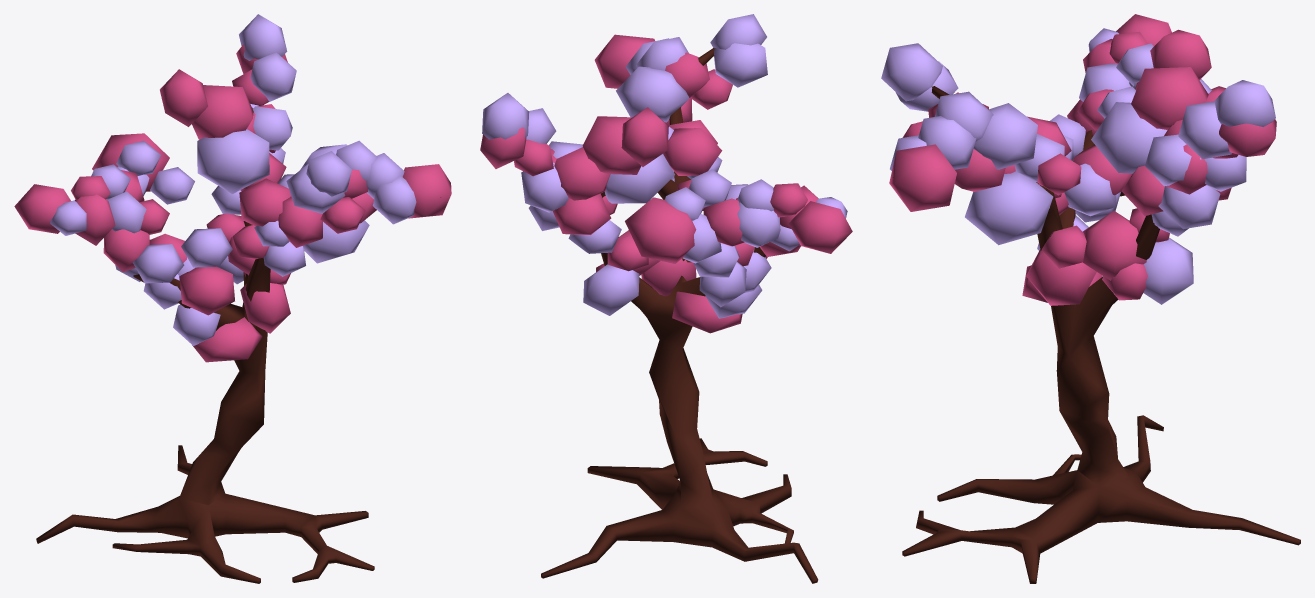
File: Sakura_1 Asia.fbx
The picture shows the model from 3 angles, left to right: view 1: azimuth 30°, elevation 25°; view 2: azimuth 150°, elevation 25°; view 3: azimuth 270°, elevation 25°; orthographic projection. The views are drawn at different scales.
Visible parts, largest first — view 1: Sakura_1; view 2: Sakura_1; view 3: Sakura_1.
Part boxes in pixels (x1,y1,x2,y2): Sakura_1: [14, 14, 451, 583]; Sakura_1: [480, 14, 852, 583]; Sakura_1: [881, 14, 1300, 583].
Bounding box in the file's own units: 365 × 447 × 344.
